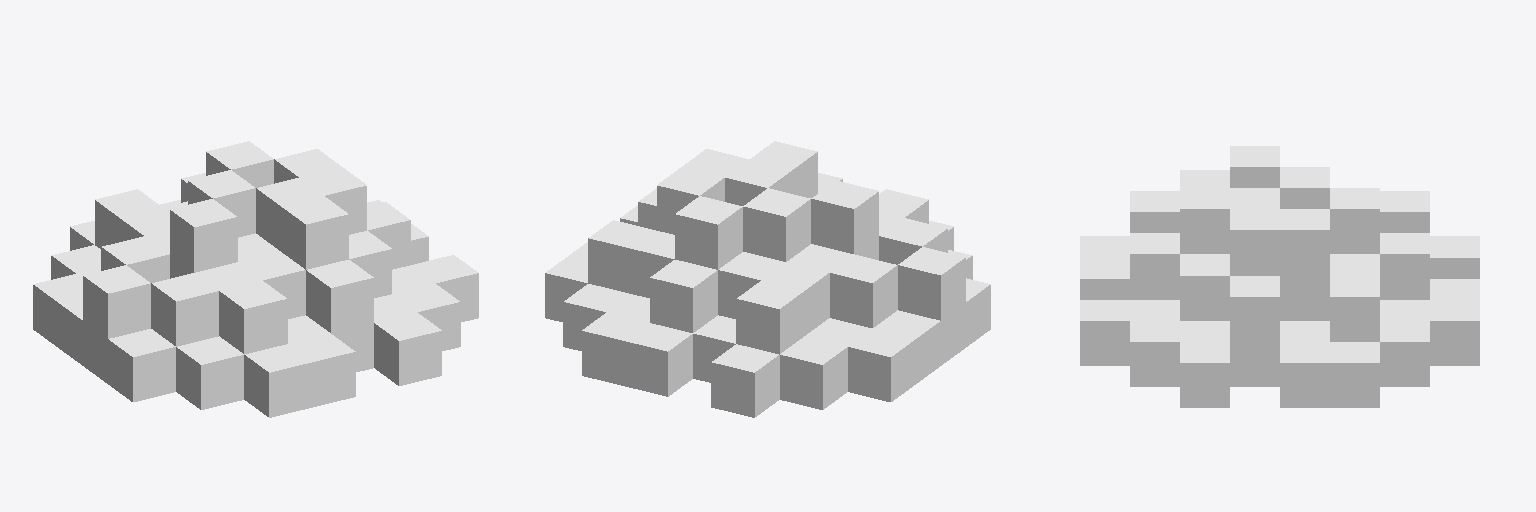
The model's file is sandpile.obj.
3 renders of one model, left to right at view 1: azimuth 30°, elevation 25°; view 2: azimuth 150°, elevation 25°; view 3: azimuth 270°, elevation 25°, orthographic.
Parts seen in each view (by area): view 1: object 1; view 2: object 1; view 3: object 1.
Boxes of the visible parts, x1,y1,x2,y2 form: object 1: [33, 141, 478, 417]; object 1: [545, 141, 990, 417]; object 1: [1080, 146, 1479, 407].
Bounding box in the file's own units: 0.8 × 0.3 × 0.8.